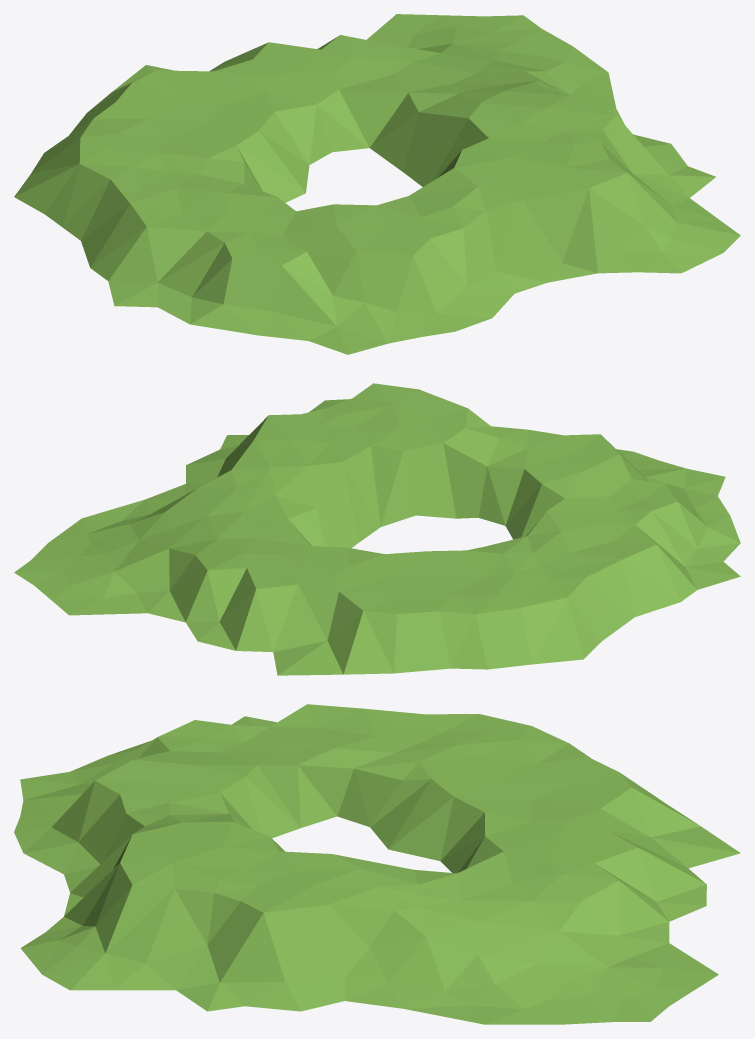
Rendered from MT_Mountain_M_c_20.fbx.
The picture shows the model from 3 angles, top to bottom: view 1: azimuth 30°, elevation 25°; view 2: azimuth 150°, elevation 25°; view 3: azimuth 270°, elevation 25°; orthographic projection. The views are drawn at different scales.
Visible parts, largest first — view 1: MT_Mountain_M_c_20; view 2: MT_Mountain_M_c_20; view 3: MT_Mountain_M_c_20.
Boxes of the visible parts, x1,y1,x2,y2 form: MT_Mountain_M_c_20: (14,14,740,354); MT_Mountain_M_c_20: (14,383,740,675); MT_Mountain_M_c_20: (14,704,740,1024).
Size of the model in its own units: 4571 by 455 by 4551.
